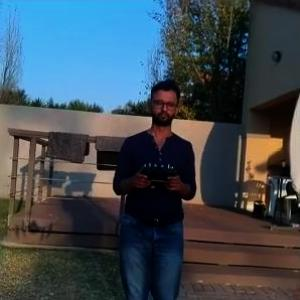follow: (107, 72, 199, 299)
